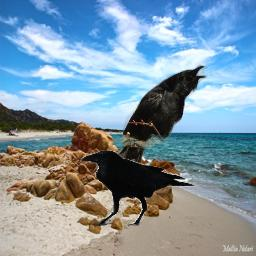Crow: (114, 63, 208, 183), (80, 150, 196, 227)
